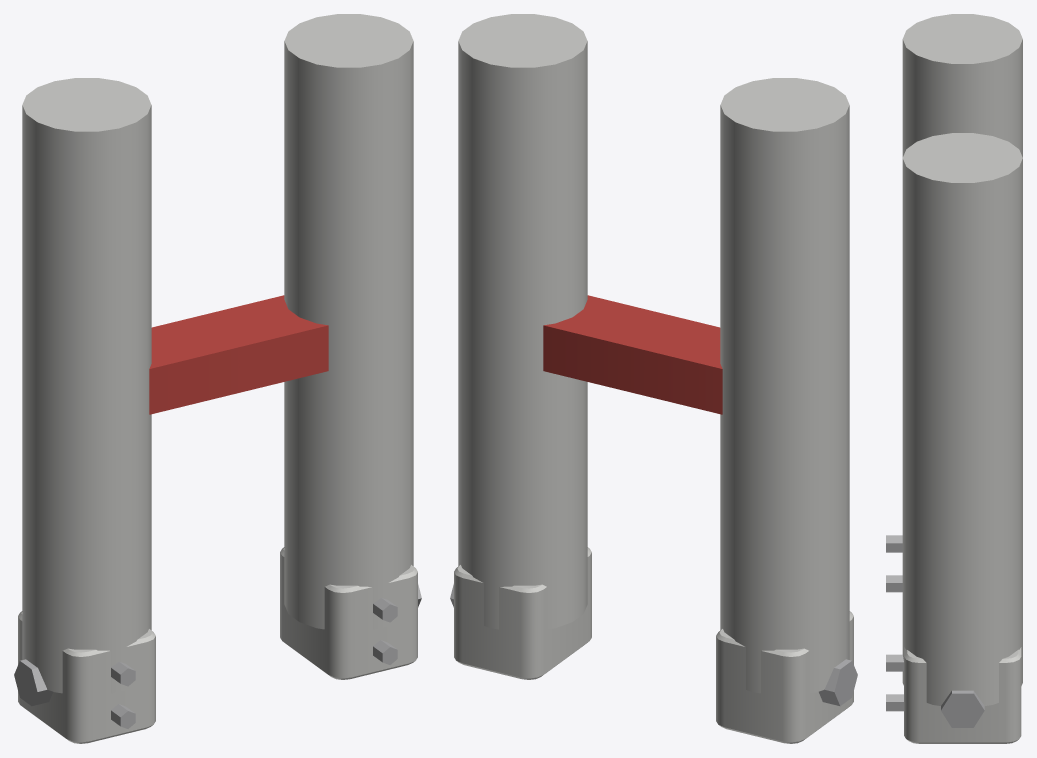
File: tourer_fork_black_lower.glb
3 renders of one model, left to right at view 1: azimuth 30°, elevation 25°; view 2: azimuth 150°, elevation 25°; view 3: azimuth 270°, elevation 25°, orthographic. The views are drawn at different scales.
Visible parts, largest first — view 1: lod0; view 2: lod0; view 3: lod0.
Boxes of the visible parts, left/top/right/bottom form: lod0: left=14, top=14, right=421, bottom=743; lod0: left=450, top=14, right=857, bottom=743; lod0: left=886, top=14, right=1022, bottom=743.
Size of what is drawn, in the model's own units: 0.264 by 0.4 by 0.0874.
